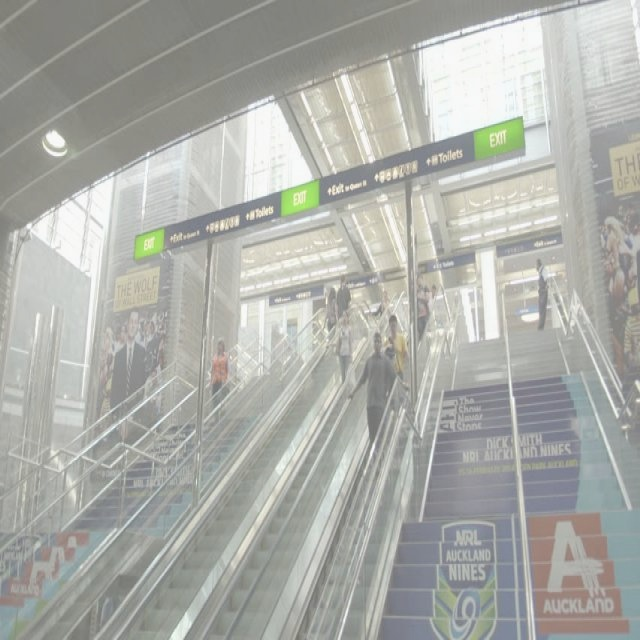pessoa: (92, 301, 170, 447), (346, 330, 412, 478), (598, 200, 640, 412), (383, 313, 410, 412), (208, 337, 232, 427), (334, 308, 353, 384), (534, 257, 550, 332), (416, 272, 431, 343), (336, 274, 352, 326), (322, 286, 338, 334), (368, 288, 391, 318), (423, 282, 436, 316), (449, 293, 459, 328)
